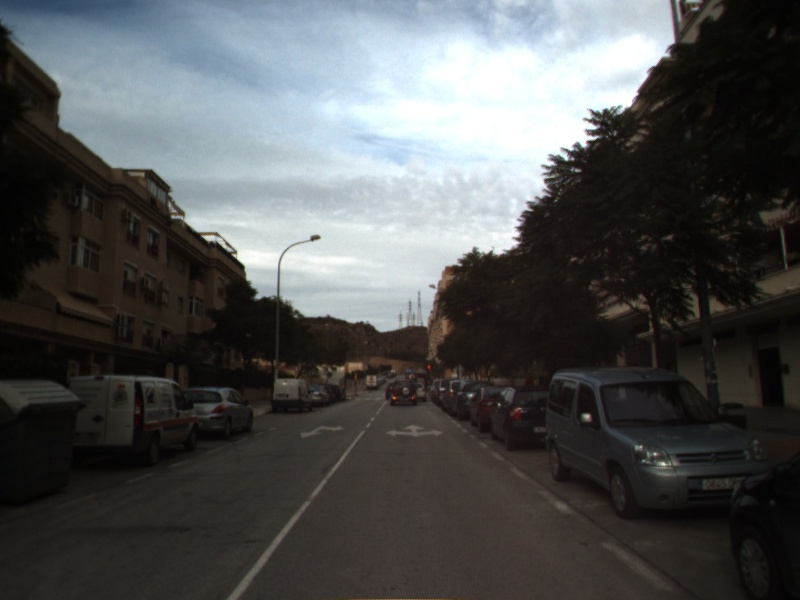STRAIGHT_LEFT_RIGHT: (383, 422, 446, 439)
